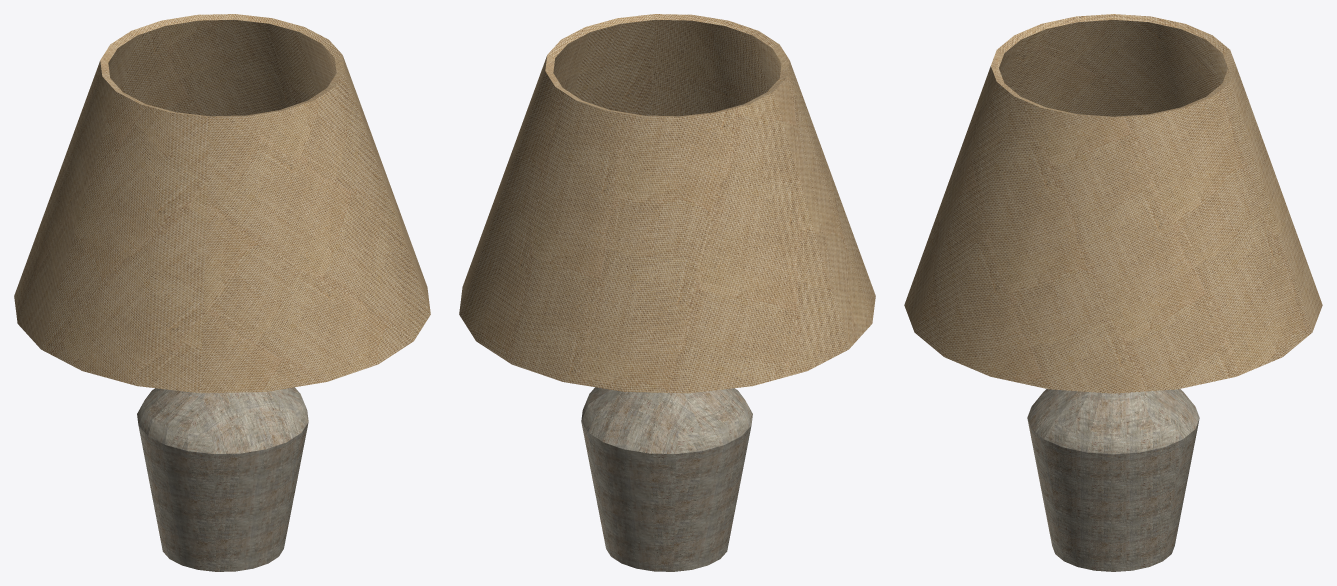
The model's file is Lampshade.fbx.
3 views of the same model, side by side, from view 1: azimuth 30°, elevation 25°; view 2: azimuth 150°, elevation 25°; view 3: azimuth 270°, elevation 25° (orthographic).
Visible parts, largest first — view 1: pCylinder2, pCylinder1; view 2: pCylinder2, pCylinder1; view 3: pCylinder2, pCylinder1.
Boxes of the visible parts, bbox=[...] form: pCylinder2: bbox=[14, 14, 430, 393]; pCylinder1: bbox=[137, 387, 308, 571]; pCylinder2: bbox=[459, 14, 875, 393]; pCylinder1: bbox=[581, 387, 752, 571]; pCylinder2: bbox=[904, 14, 1322, 393]; pCylinder1: bbox=[1027, 389, 1199, 571].
Bounding box in the file's own units: 6.83 × 8.64 × 6.83.
